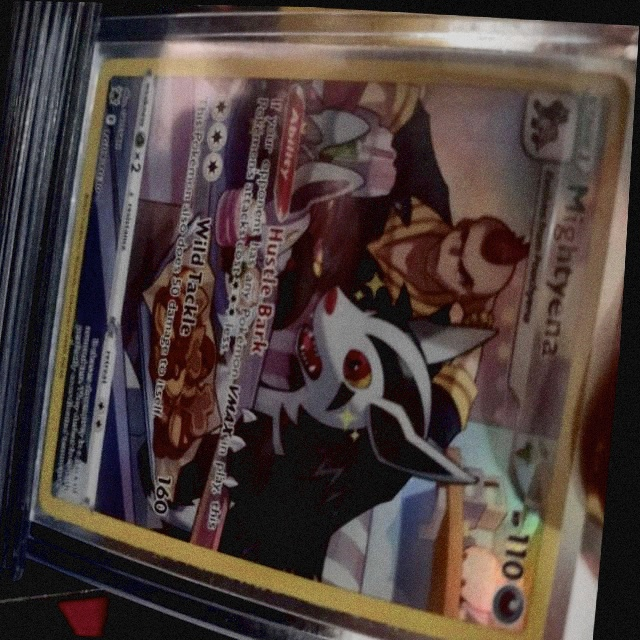card: (42, 54, 633, 640)
